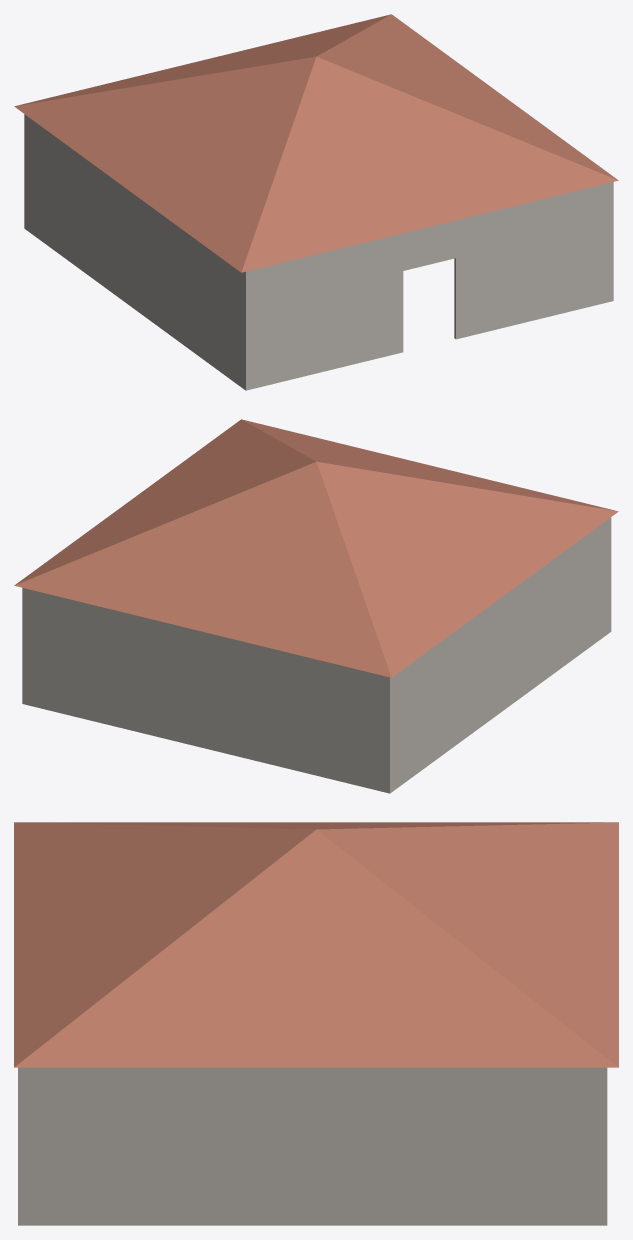
Rendered from Incredible Bigery.glb.
3 views of the same model, one above another, from view 1: azimuth 30°, elevation 25°; view 2: azimuth 150°, elevation 25°; view 3: azimuth 270°, elevation 25° (orthographic). The views are drawn at different scales.
Visible parts, largest first — view 1: Mesh_Mesh_head_geo.001_lambert2SG.001; view 2: Mesh_Mesh_head_geo.001_lambert2SG.001; view 3: Mesh_Mesh_head_geo.001_lambert2SG.001.
Boxes of the visible parts, x1,y1,x2,y2 form: Mesh_Mesh_head_geo.001_lambert2SG.001: [14, 14, 618, 390]; Mesh_Mesh_head_geo.001_lambert2SG.001: [14, 419, 618, 793]; Mesh_Mesh_head_geo.001_lambert2SG.001: [14, 822, 618, 1225].
Size of the model in its own units: 0.141 by 0.074 by 0.147.
